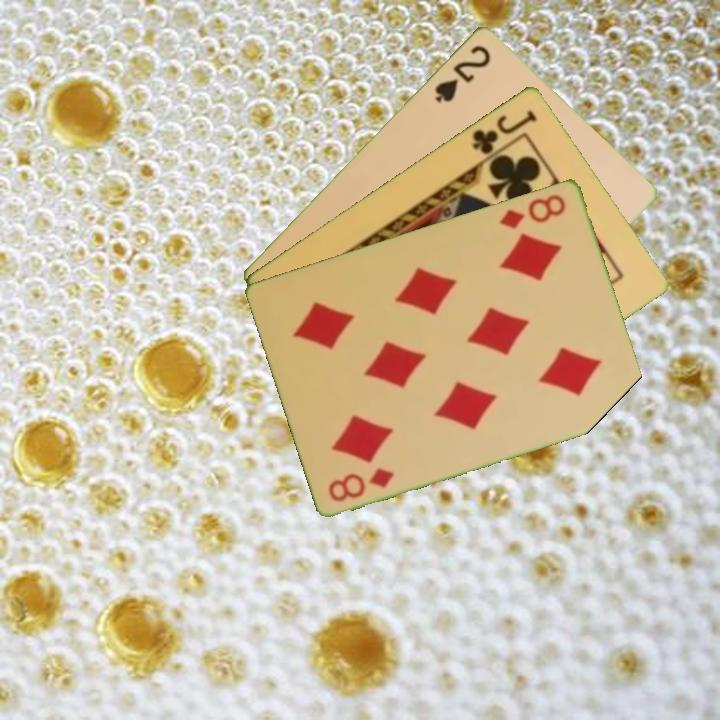2s: (431, 41, 493, 106)
8d: (496, 190, 569, 232), (325, 464, 398, 504)
Jc: (468, 106, 540, 157)
